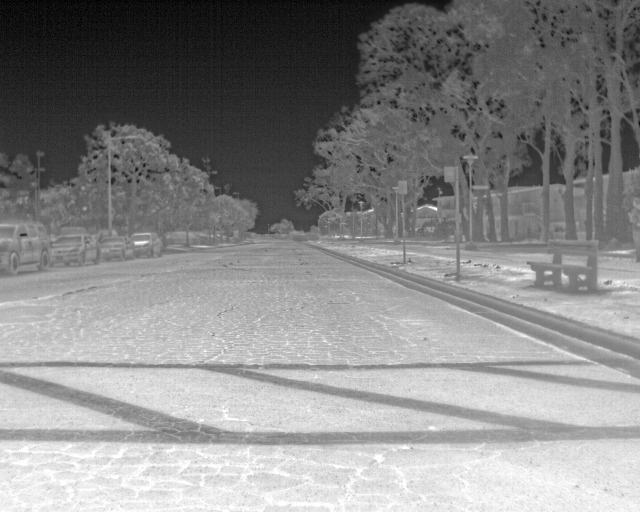vehicle: (1, 219, 51, 280), (51, 231, 101, 270), (133, 233, 165, 260), (101, 234, 129, 261)
